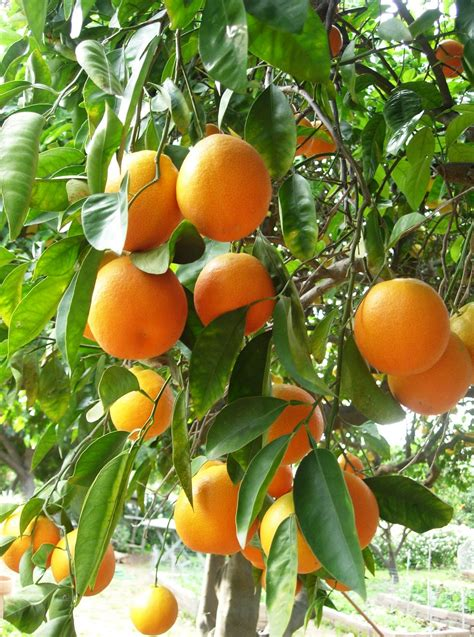orange: (83, 253, 188, 367), (177, 126, 272, 242), (350, 275, 453, 379), (187, 253, 281, 344)
